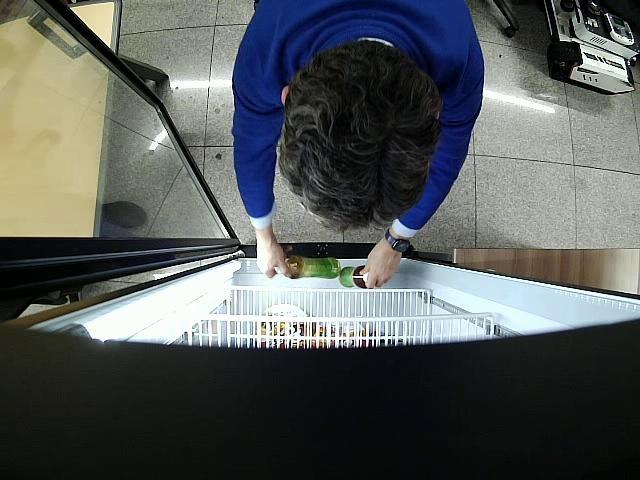19_17cha: (274, 258, 340, 278), (338, 266, 370, 287)
